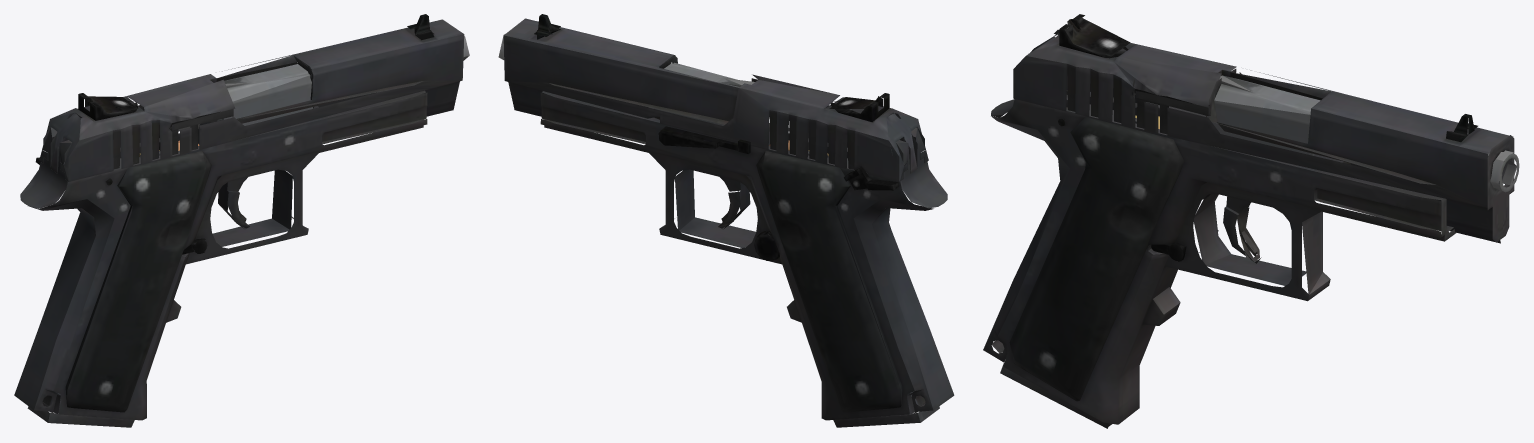
File: pistol_med.glb
The picture shows the model from 3 angles, left to right: view 1: azimuth 30°, elevation 25°; view 2: azimuth 150°, elevation 25°; view 3: azimuth 330°, elevation 25°; orthographic projection. The views are drawn at different scales.
Visible parts, largest first — view 1: body, slide, mag, trigger; view 2: body, slide, mag, trigger; view 3: body, slide, trigger, mag.
Boxes of the visible parts, bbox=[...] form: body: bbox=[14, 36, 469, 420]; slide: bbox=[39, 14, 464, 181]; mag: bbox=[27, 151, 160, 427]; trigger: bbox=[218, 177, 249, 228]; body: bbox=[498, 34, 954, 420]; slide: bbox=[503, 14, 928, 181]; mag: bbox=[808, 151, 939, 427]; trigger: bbox=[718, 177, 750, 229]; body: bbox=[983, 42, 1519, 424]; slide: bbox=[1013, 14, 1514, 243]; trigger: bbox=[1223, 196, 1261, 263]; mag: bbox=[1000, 102, 1175, 428].
Bounding box in the file's own units: 0.2 × 0.146 × 0.0303.
Materials: 1 (1 with a texture image).
